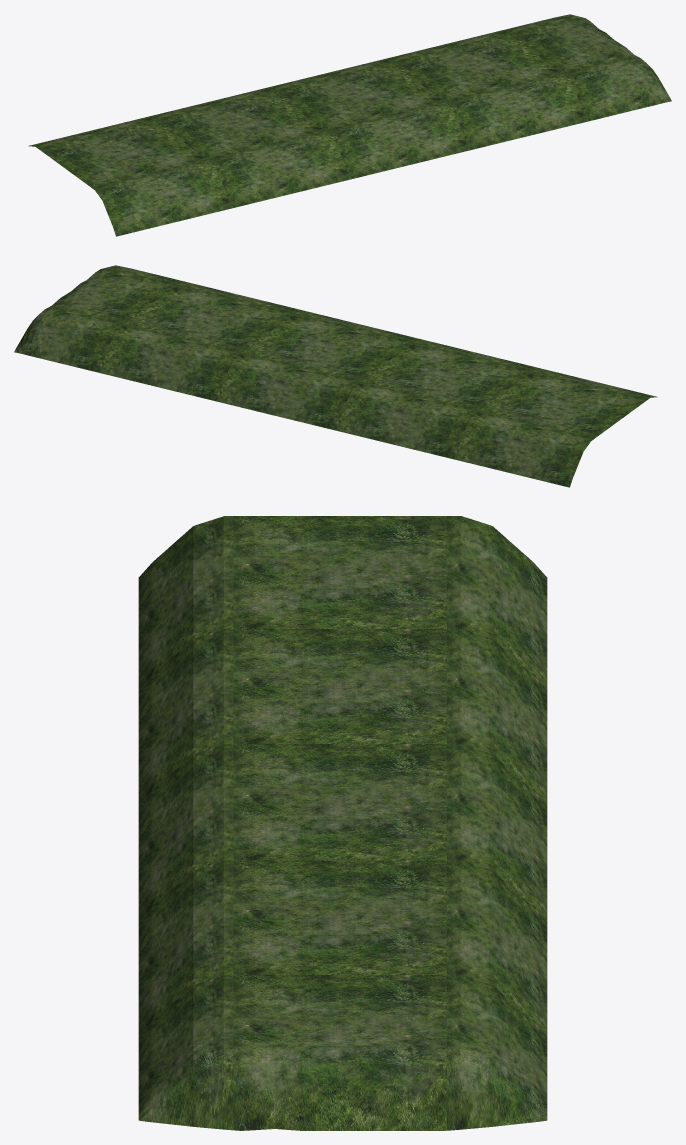
File: polel.gltf
3 views of the same model, one above another, from view 1: azimuth 30°, elevation 25°; view 2: azimuth 150°, elevation 25°; view 3: azimuth 270°, elevation 25° (orthographic). The views are drawn at different scales.
Parts seen in each view (by area): view 1: polel; view 2: polel; view 3: polel.
Part boxes in pixels (<box>): polel: <box>28,14,671,236</box>; polel: <box>14,265,657,487</box>; polel: <box>138,516,547,1130</box>.
Bounding box in the file's own units: 646 × 33.87 × 202.
1 material, 1 textured.
